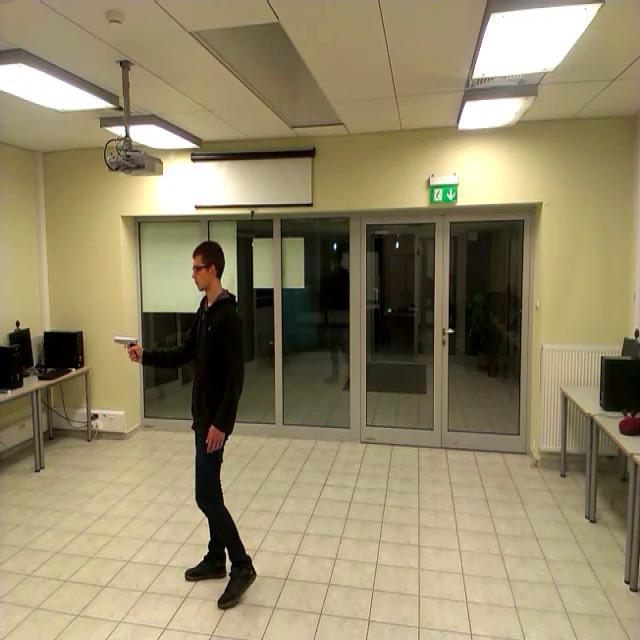Gun: (112, 335, 138, 360)
